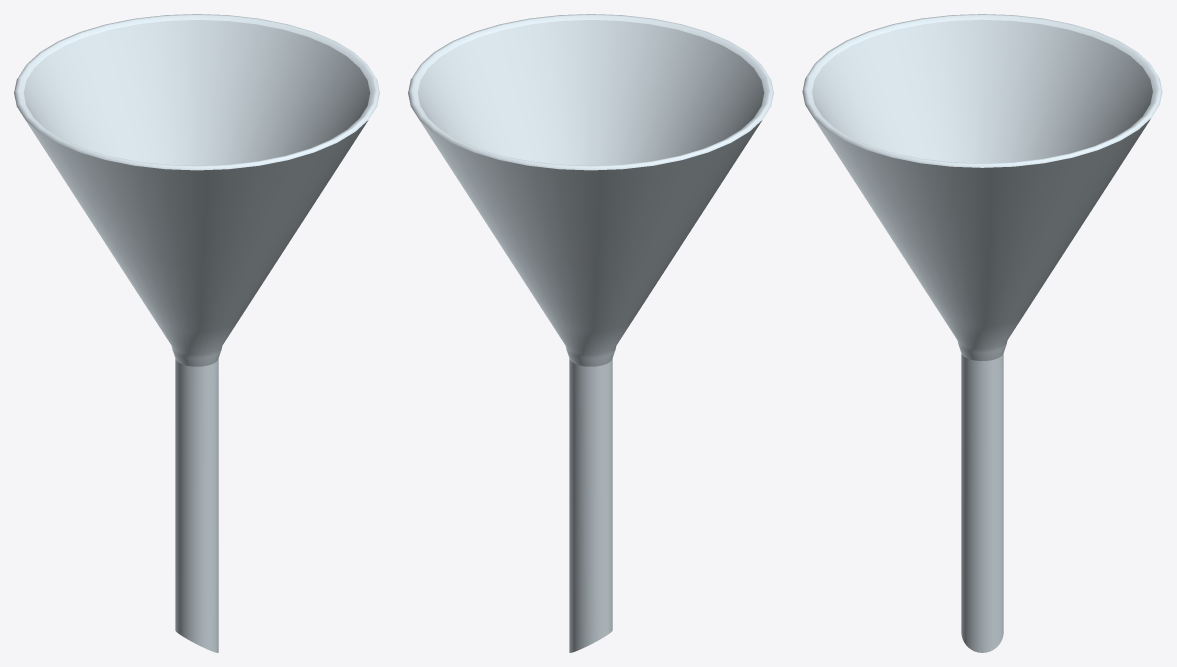
File: cc0_-_funnel_3.glb
The picture shows the model from 3 angles, left to right: view 1: azimuth 30°, elevation 25°; view 2: azimuth 150°, elevation 25°; view 3: azimuth 270°, elevation 25°; orthographic projection.
Visible parts, largest first — view 1: Funnel3; view 2: Funnel3; view 3: Funnel3.
Boxes of the visible parts, x1,y1,x2,y2 form: Funnel3: [14, 14, 379, 652]; Funnel3: [408, 14, 773, 652]; Funnel3: [802, 14, 1162, 652].
Bounding box in the file's own units: 0.0595 × 0.1011 × 0.0595.
Materials: 1 (1 with a texture image).
